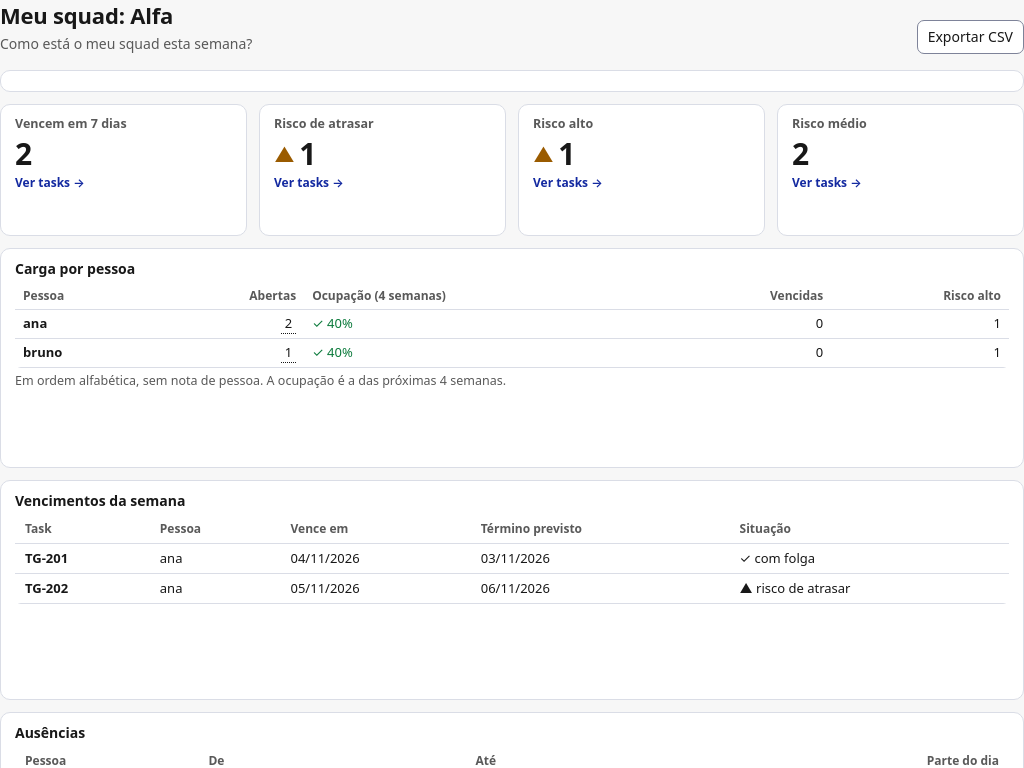
tela Meu squad › numeroDaPessoaAbreAGavetaDoCartaoComOSquad
The image size is (1024, 768).
Click the button named "ana: 2".
click(288, 324)  # box [281, 314, 296, 334]
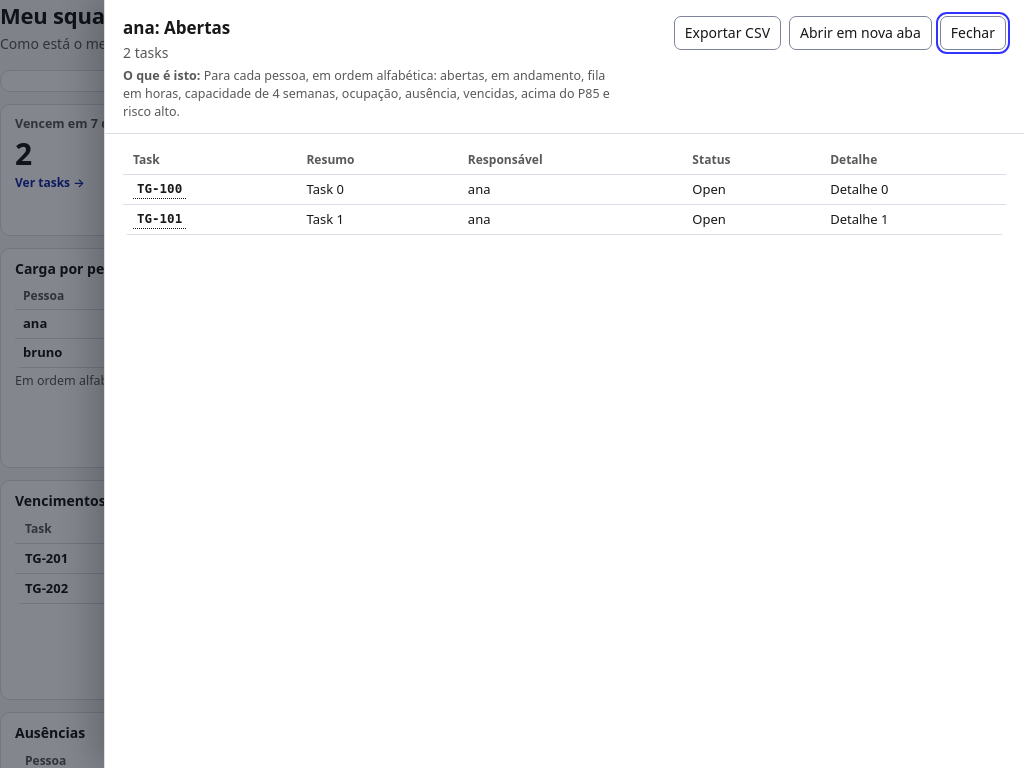
Now the dialog is shown
